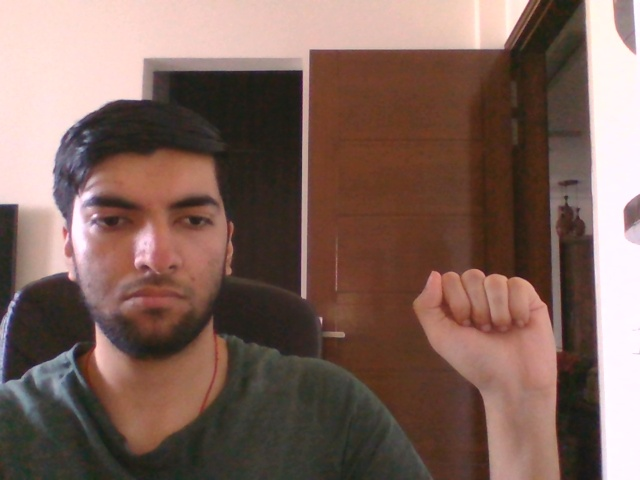LetterA: (411, 268, 559, 401)
